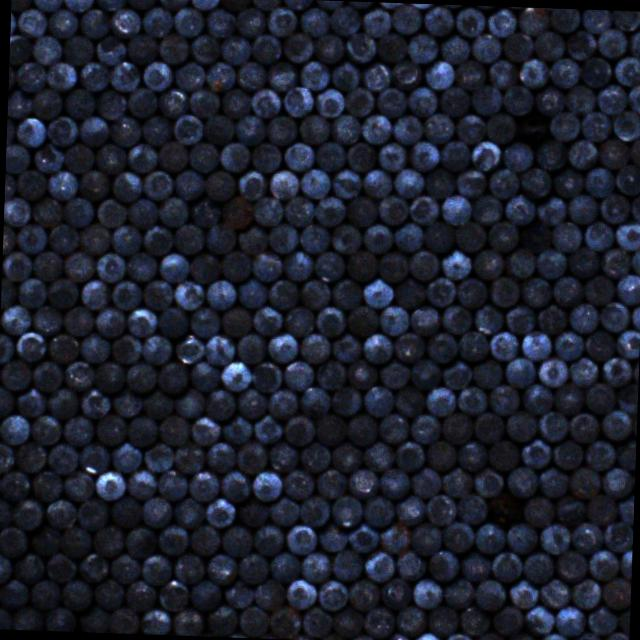tool: (512, 214, 561, 255), (456, 546, 492, 582), (376, 520, 413, 554), (218, 523, 254, 557), (107, 494, 143, 528), (360, 220, 394, 256), (204, 602, 239, 636), (42, 550, 77, 584), (171, 494, 206, 528), (457, 602, 492, 636), (472, 578, 507, 612), (520, 549, 554, 584), (172, 439, 206, 474), (234, 439, 268, 474), (486, 382, 520, 417), (422, 164, 456, 199), (297, 3, 331, 38), (12, 385, 48, 418), (280, 303, 316, 336), (44, 276, 80, 309), (236, 221, 269, 257), (105, 552, 142, 584), (268, 604, 302, 638), (156, 578, 190, 612), (26, 522, 60, 556), (283, 522, 317, 556), (553, 492, 587, 526), (44, 440, 78, 474), (536, 409, 570, 443), (281, 358, 315, 392), (296, 330, 330, 364), (582, 327, 616, 361), (124, 248, 158, 282), (250, 248, 284, 282), (343, 412, 378, 445), (62, 30, 95, 65), (362, 548, 394, 584), (328, 276, 364, 308), (438, 136, 470, 172), (329, 605, 363, 638), (363, 605, 396, 639), (253, 576, 286, 610), (379, 576, 412, 610), (170, 550, 204, 583), (122, 525, 156, 558), (11, 496, 44, 530), (425, 549, 458, 583), (554, 548, 587, 582), (568, 520, 602, 553), (360, 494, 394, 527), (30, 469, 64, 502), (92, 468, 126, 501), (154, 468, 188, 501), (218, 468, 252, 501), (76, 441, 110, 474), (172, 331, 205, 365), (584, 437, 617, 471), (472, 411, 506, 444), (520, 381, 554, 414), (376, 356, 410, 389), (76, 221, 110, 254), (124, 197, 158, 230), (188, 193, 222, 226), (266, 167, 300, 200), (248, 139, 282, 172), (202, 111, 235, 145), (358, 112, 392, 145), (566, 245, 600, 278), (550, 165, 584, 198), (62, 85, 95, 119), (172, 59, 206, 92), (280, 29, 314, 62), (374, 31, 408, 64), (203, 552, 238, 584), (409, 576, 444, 608), (204, 439, 236, 474), (359, 384, 394, 416), (392, 383, 424, 418), (202, 278, 237, 310), (108, 168, 143, 200), (422, 218, 454, 253), (75, 496, 108, 529), (108, 439, 141, 472), (126, 414, 159, 447), (504, 409, 537, 442), (264, 330, 297, 363), (423, 329, 456, 362), (519, 328, 552, 361), (61, 195, 94, 228), (157, 195, 190, 228), (471, 192, 504, 225), (238, 604, 270, 638), (58, 578, 92, 610), (123, 578, 157, 610), (348, 577, 380, 611), (10, 552, 44, 584), (268, 549, 302, 581), (300, 550, 332, 584), (331, 548, 363, 582), (91, 524, 123, 558), (154, 524, 188, 556), (315, 520, 349, 552), (42, 498, 76, 530), (236, 494, 270, 526), (298, 493, 330, 527), (330, 493, 362, 527), (584, 604, 618, 636), (393, 492, 425, 526), (424, 492, 456, 526), (94, 412, 126, 446), (218, 412, 252, 444), (46, 385, 78, 419), (172, 384, 204, 418), (204, 386, 236, 420), (45, 331, 79, 363), (187, 306, 221, 338), (314, 468, 348, 500), (408, 465, 440, 499), (504, 466, 538, 498), (538, 464, 570, 498), (600, 464, 632, 498), (330, 438, 362, 472), (282, 412, 314, 446), (600, 408, 632, 442), (550, 380, 582, 414), (582, 382, 616, 414), (502, 356, 536, 388), (438, 302, 472, 334), (140, 277, 172, 311), (266, 276, 300, 308), (298, 276, 330, 310), (64, 248, 96, 282), (188, 250, 222, 282), (313, 250, 347, 282), (202, 222, 236, 254), (298, 221, 330, 255), (221, 194, 253, 228), (344, 194, 378, 226), (124, 140, 158, 172), (106, 114, 140, 146), (394, 275, 426, 309), (501, 246, 535, 278), (468, 138, 502, 170), (596, 136, 630, 168), (220, 86, 252, 120), (205, 58, 237, 92), (156, 32, 190, 64), (343, 30, 375, 64), (44, 8, 78, 40), (170, 4, 204, 36), (328, 4, 362, 36), (359, 3, 391, 37), (500, 29, 532, 63), (452, 5, 486, 37), (94, 359, 125, 394), (569, 464, 600, 499), (221, 576, 254, 608), (315, 578, 348, 610), (140, 552, 172, 585), (394, 604, 426, 637), (586, 548, 618, 581), (346, 520, 378, 553), (600, 520, 633, 552), (521, 494, 554, 526), (13, 440, 46, 472), (141, 439, 173, 472), (28, 413, 61, 445), (61, 414, 94, 446), (158, 413, 190, 446), (62, 358, 94, 391), (156, 360, 188, 393), (218, 359, 251, 391), (250, 359, 282, 392), (62, 304, 94, 337), (126, 305, 158, 338), (220, 303, 253, 335), (455, 439, 488, 471), (486, 438, 518, 471), (266, 386, 298, 419), (298, 384, 331, 416), (439, 358, 472, 390), (360, 332, 393, 364), (344, 305, 377, 337), (31, 249, 64, 281), (155, 250, 188, 282), (345, 248, 378, 280), (15, 222, 48, 254), (140, 224, 173, 256), (172, 221, 204, 254), (266, 220, 298, 253), (329, 220, 361, 253), (251, 194, 284, 226), (282, 194, 314, 227), (312, 194, 345, 226), (75, 168, 108, 200), (139, 112, 172, 144), (599, 246, 632, 278), (550, 219, 582, 252), (454, 164, 486, 197), (187, 87, 220, 119), (312, 86, 345, 118), (374, 85, 406, 118), (297, 58, 330, 90), (406, 31, 438, 64), (389, 2, 422, 34), (453, 58, 486, 90), (532, 29, 564, 62), (188, 579, 222, 610), (440, 520, 474, 551), (250, 412, 284, 443), (0, 358, 31, 392), (1, 302, 32, 336), (550, 438, 584, 469), (235, 332, 266, 366), (141, 168, 172, 202), (184, 141, 218, 172), (404, 85, 438, 116), (57, 526, 92, 556), (202, 170, 237, 200), (300, 605, 332, 637), (284, 578, 316, 610), (236, 552, 268, 584), (140, 496, 172, 528), (268, 492, 300, 524), (554, 604, 586, 636), (506, 576, 538, 608), (538, 576, 570, 608), (393, 548, 425, 580), (538, 522, 570, 554), (453, 492, 485, 524), (586, 493, 618, 525), (62, 468, 94, 500), (189, 414, 221, 446), (78, 386, 110, 418), (142, 386, 174, 418), (187, 360, 219, 392), (141, 332, 173, 364), (94, 306, 126, 338), (440, 466, 472, 498), (472, 466, 504, 498), (267, 440, 299, 472), (298, 440, 330, 472), (394, 439, 426, 471), (520, 437, 552, 469), (408, 412, 440, 444), (440, 412, 472, 444), (568, 411, 600, 443), (392, 330, 424, 362), (456, 330, 488, 362), (550, 328, 582, 360), (535, 302, 567, 334), (566, 300, 598, 332), (597, 300, 629, 332), (110, 277, 142, 309), (236, 276, 268, 308), (362, 276, 394, 308), (282, 248, 314, 280), (47, 222, 79, 254), (109, 223, 141, 255), (14, 168, 46, 200), (62, 141, 94, 173), (296, 112, 328, 144), (582, 218, 614, 250), (598, 190, 630, 222), (486, 166, 518, 198), (376, 140, 408, 172), (390, 112, 422, 144), (484, 111, 516, 143), (579, 109, 611, 141), (156, 86, 188, 118), (14, 59, 46, 91), (266, 59, 298, 91), (313, 31, 345, 63), (203, 5, 235, 37), (234, 5, 266, 37), (438, 86, 470, 118), (532, 84, 564, 116), (422, 58, 454, 90), (579, 56, 611, 88), (565, 29, 597, 61), (420, 4, 452, 36), (125, 467, 156, 500), (110, 386, 143, 417), (31, 358, 62, 391), (125, 360, 156, 393), (204, 332, 235, 365), (361, 440, 394, 471), (410, 356, 441, 389), (328, 331, 361, 362), (359, 168, 392, 199), (94, 140, 125, 173), (154, 139, 187, 170), (44, 115, 77, 146), (502, 139, 533, 172), (126, 30, 157, 63), (266, 3, 297, 36), (594, 83, 627, 114), (547, 56, 580, 87), (76, 602, 110, 632), (252, 522, 282, 556), (490, 604, 524, 634), (410, 522, 440, 556), (314, 412, 344, 446), (344, 358, 378, 388), (298, 168, 332, 198), (280, 140, 314, 170), (438, 248, 472, 278), (452, 220, 486, 250), (518, 166, 552, 196), (138, 6, 172, 36), (169, 608, 205, 636), (29, 578, 60, 610), (188, 523, 219, 555), (205, 496, 236, 528), (522, 604, 553, 636), (443, 576, 474, 608), (600, 576, 631, 608), (472, 521, 504, 552), (504, 522, 536, 553), (251, 469, 282, 501), (14, 330, 46, 361), (110, 332, 141, 364), (282, 468, 314, 499), (376, 412, 408, 443), (424, 384, 455, 416), (455, 385, 487, 416), (312, 358, 344, 389), (470, 357, 502, 388), (600, 354, 631, 386), (376, 304, 408, 335), (408, 304, 440, 335), (472, 302, 503, 334), (504, 302, 536, 333), (172, 278, 203, 310), (30, 196, 62, 227), (94, 196, 125, 228), (234, 168, 266, 199), (330, 166, 361, 198), (31, 142, 62, 174), (13, 115, 44, 147), (520, 276, 552, 307), (406, 249, 438, 280), (471, 247, 502, 279), (377, 194, 409, 225), (567, 192, 599, 223), (392, 167, 424, 198), (454, 112, 485, 144), (31, 88, 62, 120), (94, 86, 125, 118), (125, 86, 157, 117), (248, 87, 280, 118), (282, 85, 313, 117), (344, 85, 376, 116), (78, 60, 110, 91), (249, 32, 280, 64), (78, 7, 110, 38), (438, 32, 470, 63), (570, 576, 600, 609), (488, 552, 521, 582), (187, 470, 220, 500), (80, 277, 110, 310), (96, 249, 126, 282), (170, 168, 203, 198), (344, 140, 377, 170), (488, 275, 518, 308), (534, 246, 567, 276), (504, 193, 534, 226), (406, 140, 439, 170), (565, 137, 598, 167), (610, 108, 640, 141), (469, 84, 502, 114), (427, 604, 458, 635), (31, 303, 62, 334), (537, 356, 568, 387), (233, 114, 264, 145), (328, 112, 359, 143), (422, 111, 453, 142), (109, 60, 140, 91), (92, 578, 124, 608), (76, 552, 108, 582), (0, 469, 30, 501), (0, 413, 30, 445), (236, 386, 266, 418), (78, 332, 110, 362), (158, 306, 188, 338), (348, 468, 378, 500), (378, 466, 408, 498), (426, 439, 456, 471), (568, 354, 598, 386), (222, 249, 252, 281), (44, 170, 76, 200), (218, 140, 248, 172), (315, 140, 345, 172), (264, 114, 296, 144), (456, 276, 486, 308), (552, 274, 582, 306), (378, 250, 408, 282), (584, 164, 614, 196), (547, 110, 579, 140), (141, 60, 173, 90), (330, 58, 360, 90), (360, 59, 390, 91), (389, 58, 421, 88), (16, 6, 46, 38), (502, 84, 532, 116), (563, 84, 595, 114), (518, 56, 548, 88), (468, 32, 500, 62), (488, 330, 518, 361), (77, 114, 108, 144), (583, 274, 614, 304), (392, 220, 423, 250), (408, 194, 439, 224), (95, 34, 126, 64), (190, 33, 220, 64), (487, 58, 518, 88), (596, 27, 626, 58), (611, 54, 640, 86), (0, 525, 28, 558), (330, 384, 360, 414), (251, 304, 281, 334), (16, 276, 46, 306), (172, 112, 202, 142), (440, 194, 470, 224), (535, 194, 565, 224), (534, 138, 564, 168), (46, 60, 76, 90), (236, 60, 266, 90), (32, 35, 62, 65), (486, 7, 516, 37), (139, 607, 171, 635), (2, 248, 30, 280), (486, 222, 518, 250), (515, 6, 547, 34), (3, 194, 30, 227), (11, 604, 45, 630), (42, 606, 76, 632), (314, 306, 344, 335), (426, 276, 455, 306), (110, 7, 139, 37), (108, 606, 139, 634), (221, 33, 249, 64), (613, 218, 640, 250), (614, 271, 640, 303), (7, 85, 32, 118), (0, 578, 28, 607), (614, 163, 640, 194), (5, 142, 30, 174), (546, 8, 578, 33), (9, 33, 33, 65), (578, 9, 610, 33), (615, 381, 638, 414), (615, 328, 640, 358), (610, 10, 640, 32), (615, 437, 636, 468), (616, 492, 634, 524), (1, 276, 16, 307), (0, 331, 14, 363), (2, 223, 16, 254), (626, 28, 640, 58), (0, 441, 13, 473), (627, 82, 640, 113), (0, 385, 13, 415), (32, 0, 62, 13), (0, 496, 12, 528), (503, 629, 536, 640), (628, 135, 640, 165), (62, 0, 93, 11), (94, 0, 125, 11), (440, 630, 474, 640), (472, 630, 505, 640), (571, 630, 604, 640), (0, 552, 10, 584), (629, 192, 640, 221), (0, 604, 12, 629), (220, 0, 250, 10), (250, 0, 280, 10), (603, 629, 629, 640), (126, 0, 157, 9), (157, 0, 188, 9), (537, 632, 571, 640), (189, 0, 219, 8), (10, 0, 33, 10)
tool_b: (486, 490, 522, 528), (516, 114, 549, 144)
